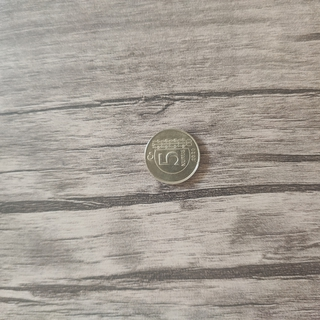5KURUS: (143, 126, 201, 185)
